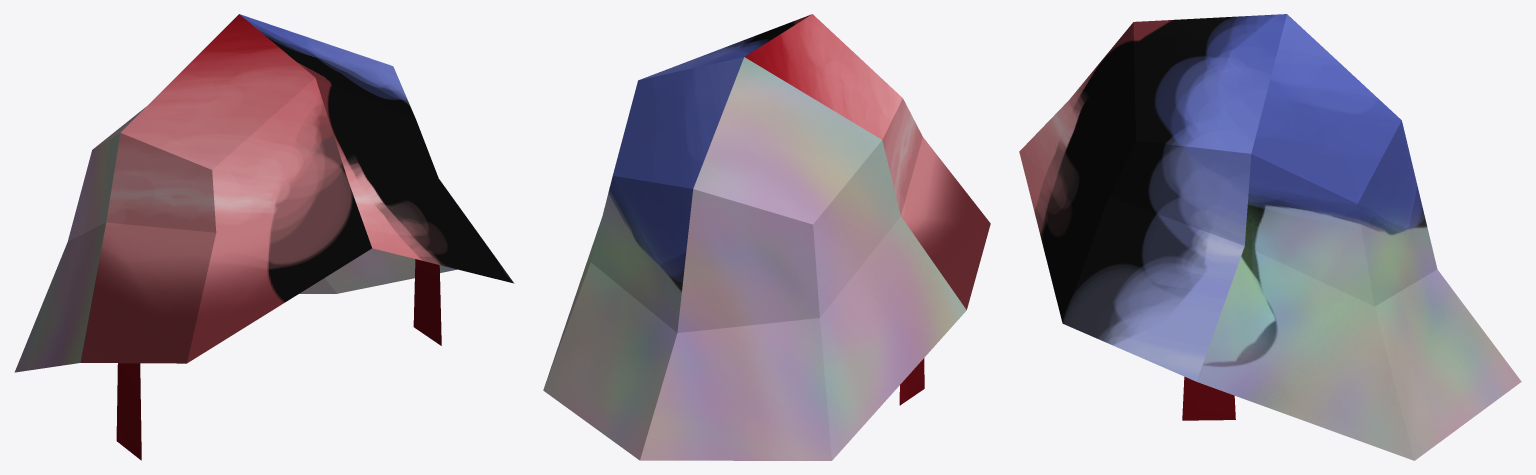
File: Skeleton Bowl Helmet.fbx
3 views of the same model, side by side, from view 1: azimuth 30°, elevation 25°; view 2: azimuth 150°, elevation 25°; view 3: azimuth 270°, elevation 25° (orthographic). The views are drawn at different scales.
Parts seen in each view (by area): view 1: Skeleton_Head_Bowl_Helmet; view 2: Skeleton_Head_Bowl_Helmet; view 3: Skeleton_Head_Bowl_Helmet.
Boxes of the visible parts, left/top/right/bottom form: Skeleton_Head_Bowl_Helmet: left=14, top=14, right=514, bottom=460; Skeleton_Head_Bowl_Helmet: left=543, top=14, right=990, bottom=460; Skeleton_Head_Bowl_Helmet: left=1019, top=14, right=1521, bottom=460.
Bounding box in the file's own units: 0.7313 × 0.639 × 0.7769.
